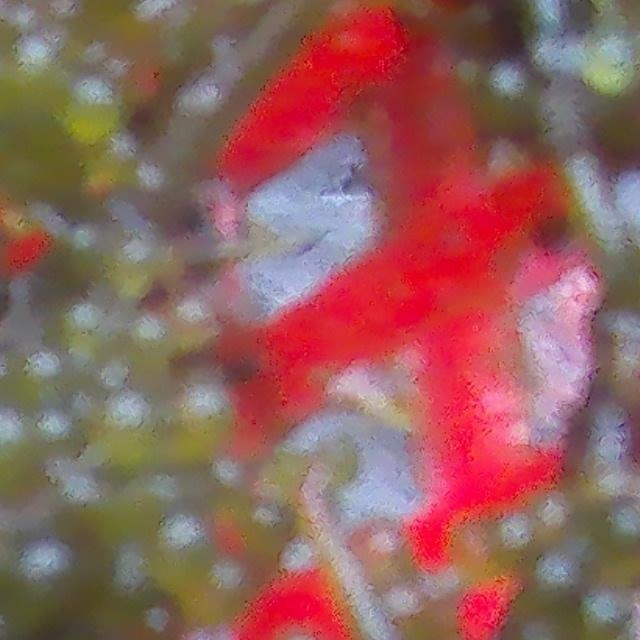SeaGrape: (11, 540, 69, 616), (0, 414, 43, 479)
